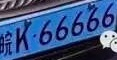K: (16, 20, 32, 53)
